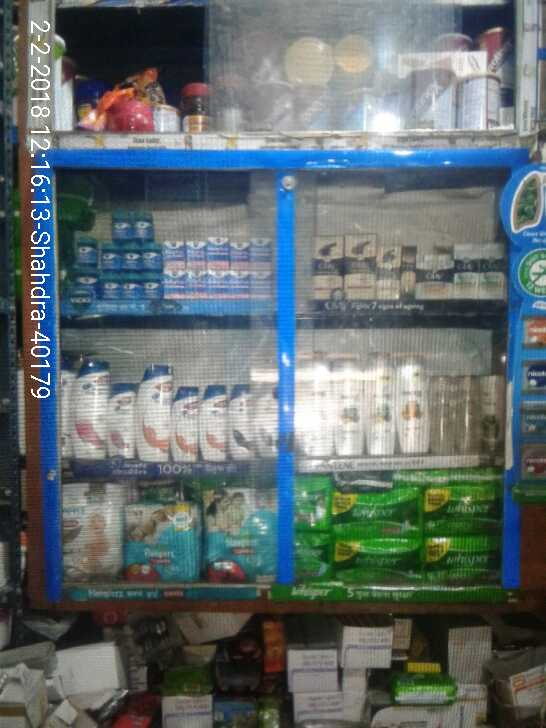vicks: (73, 203, 275, 301)
